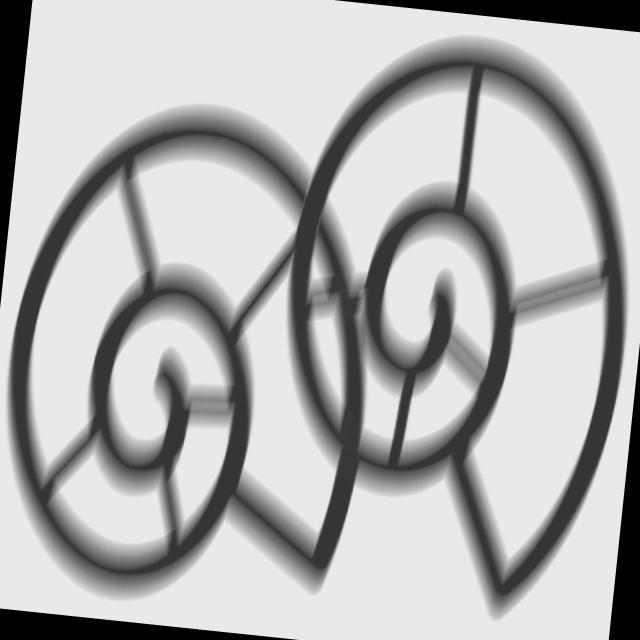fossil: (247, 7, 640, 640), (1, 74, 392, 637)
